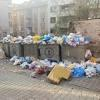Container: (38, 43, 62, 60), (60, 46, 85, 61), (23, 44, 42, 57), (9, 43, 23, 56), (2, 43, 14, 57)
Garbage: (49, 62, 100, 77), (15, 58, 46, 72), (54, 34, 90, 45), (30, 36, 64, 44), (2, 33, 28, 42)
